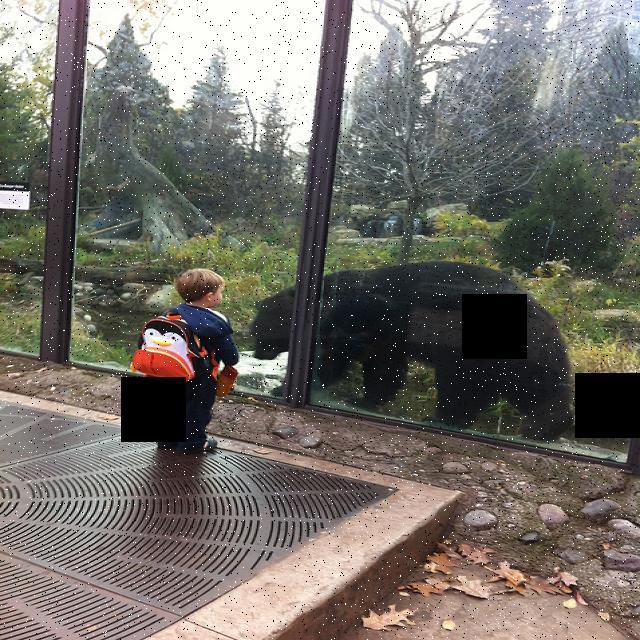Bear: (246, 260, 577, 442)
